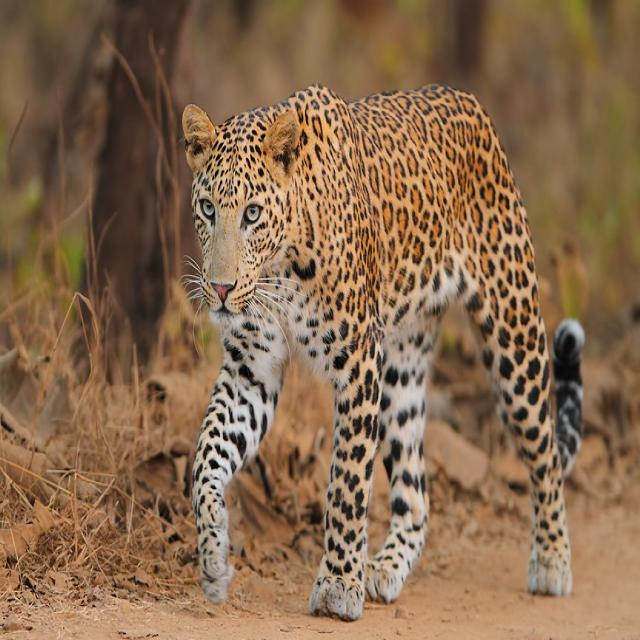Leopard: (180, 99, 588, 612)
